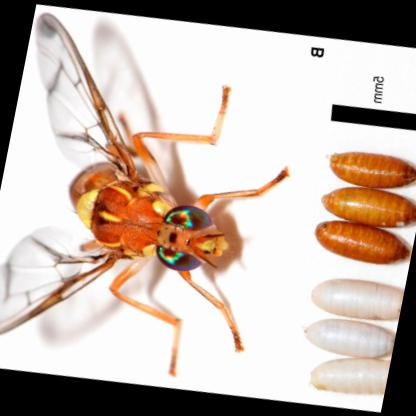fruit fly: (0, 13, 287, 374)
